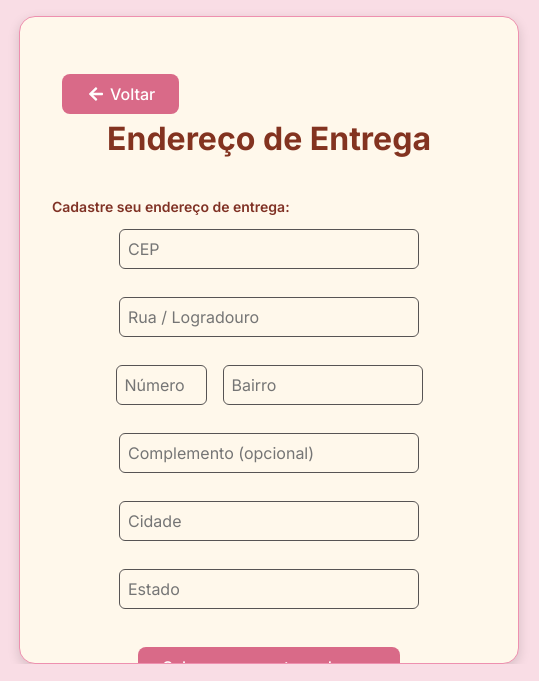
Test case: Address › CEP nao encontrado deve mostrar erro especifico de CEP
Type "99999999" into the field with placeholder "CEP". click: (269,249)
box: [119,229,419,269]
Wait 500 ms
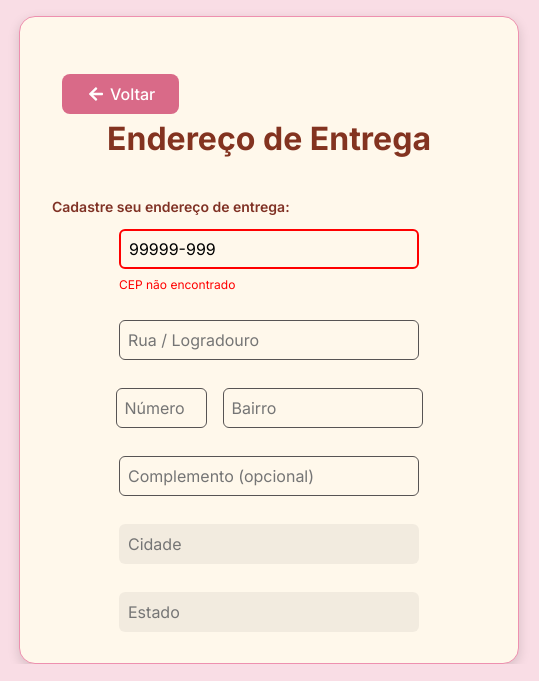
Now the text "CEP não encontrado" is shown, box [119,277,235,292]
